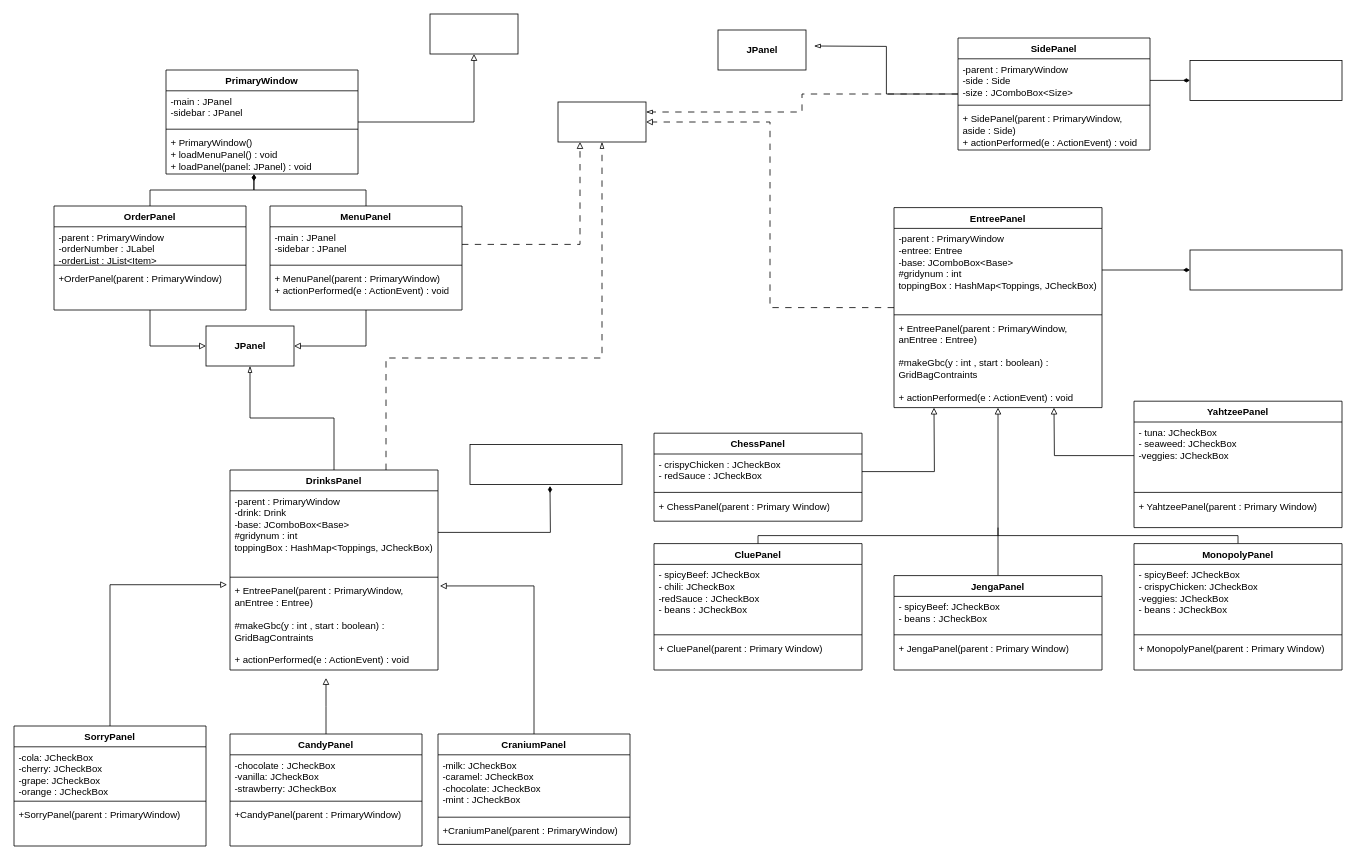
The diagram is 1356 pixels wide and 862 high, and some of its shapes have lost their labels. Here are the shapes that lost their labels. From the top down, the centre of each, then its label:
At (x=473, y=33): "JFrame".
At (x=1265, y=80): "package gamegrub.data.sides;".
At (x=601, y=121): "«interface» ActionListener".
At (x=1265, y=269): "package gamegrub.data.entrees;".
At (x=545, y=464): "package gamegrub.data.drinks;".
